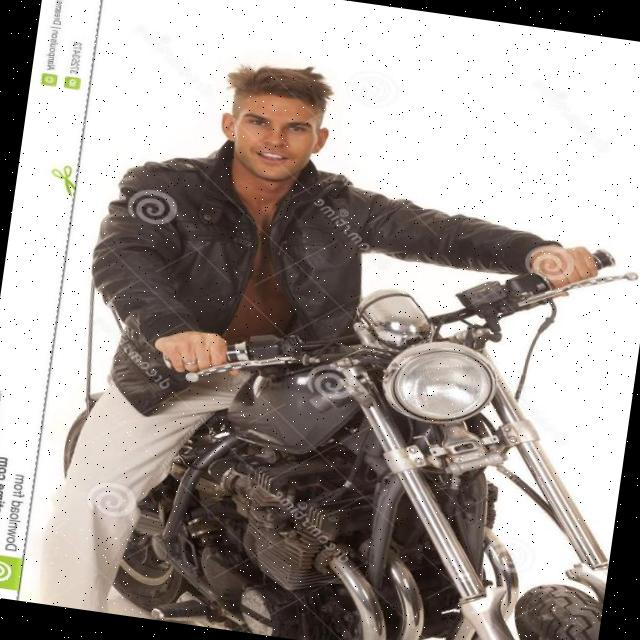No helmet: (214, 59, 344, 193)
